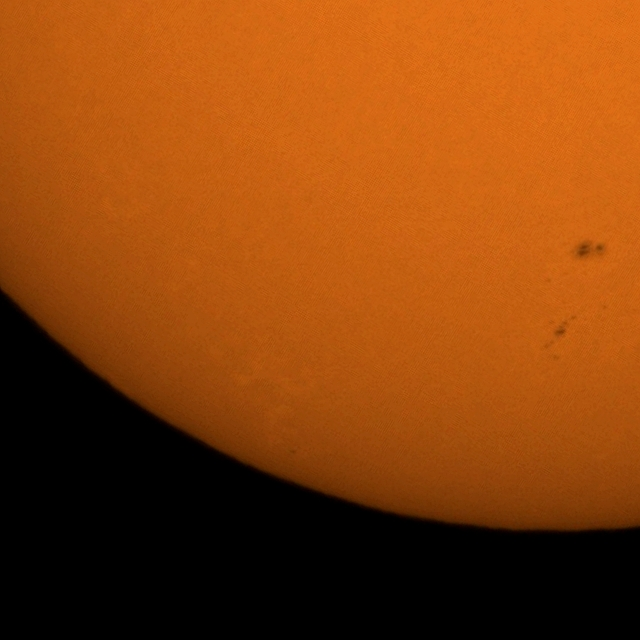sunspot: (543, 314, 572, 354), (570, 238, 604, 264)
